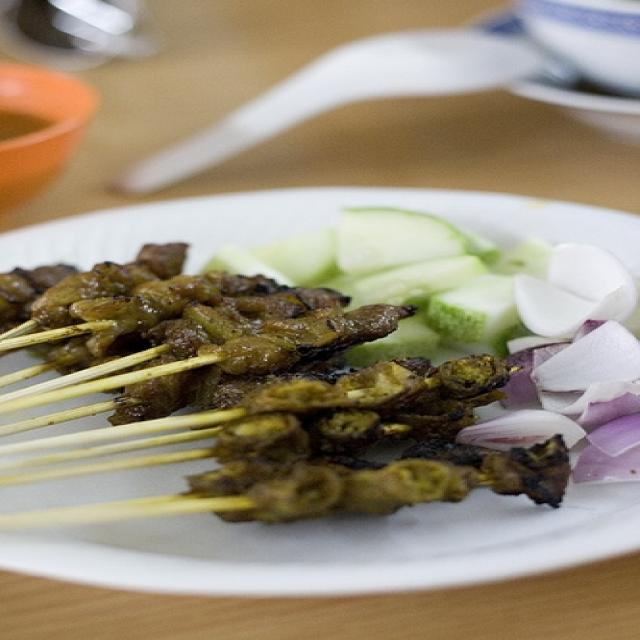牛肉菜式: (6, 170, 592, 572)
